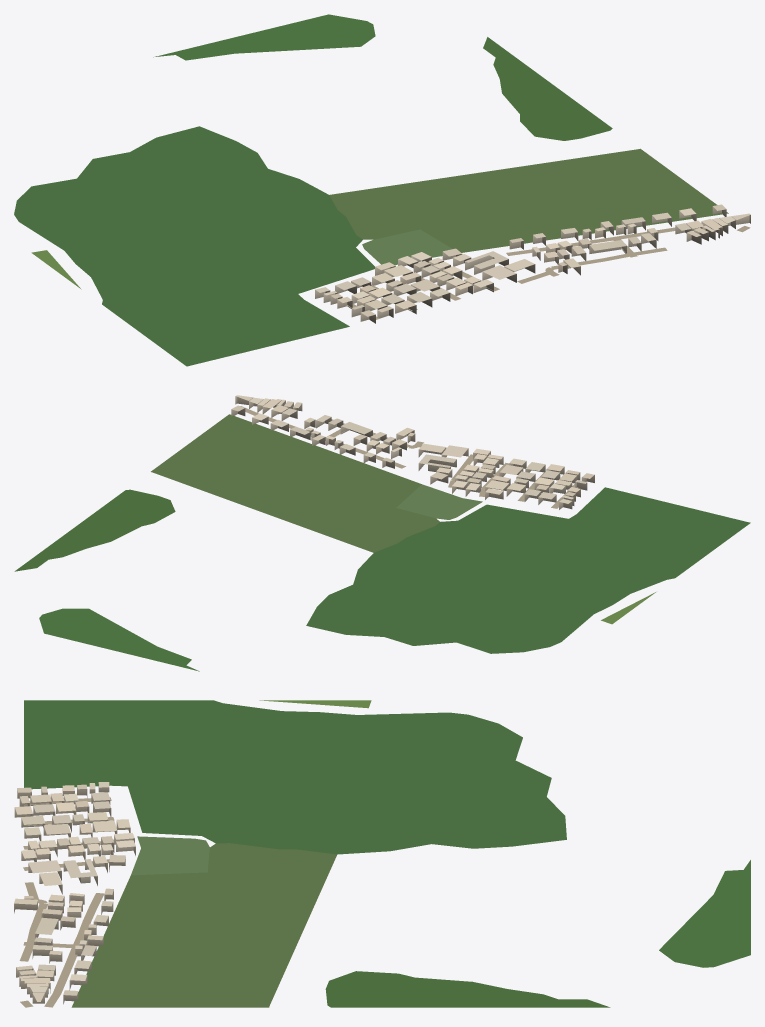
3 views of the same model, one above another, from view 1: azimuth 30°, elevation 25°; view 2: azimuth 150°, elevation 25°; view 3: azimuth 270°, elevation 25° (orthographic). The views are drawn at different scales.
Parts seen in each view (by area): view 1: ground, building; view 2: ground, building; view 3: ground, building.
Boxes of the visible parts, x1=… form: ground: x1=14, y1=14, x2=750, y2=366; building: x1=315, y1=204, x2=750, y2=323; ground: x1=14, y1=406, x2=750, y2=671; building: x1=231, y1=395, x2=594, y2=509; ground: x1=19, y1=700, x2=750, y2=1007; building: x1=14, y1=782, x2=135, y2=1004.
Size of the model in its own units: 506 by 8 by 507.
